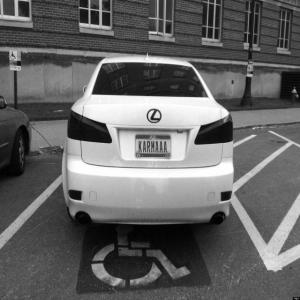Plate: (135, 135, 171, 159)
